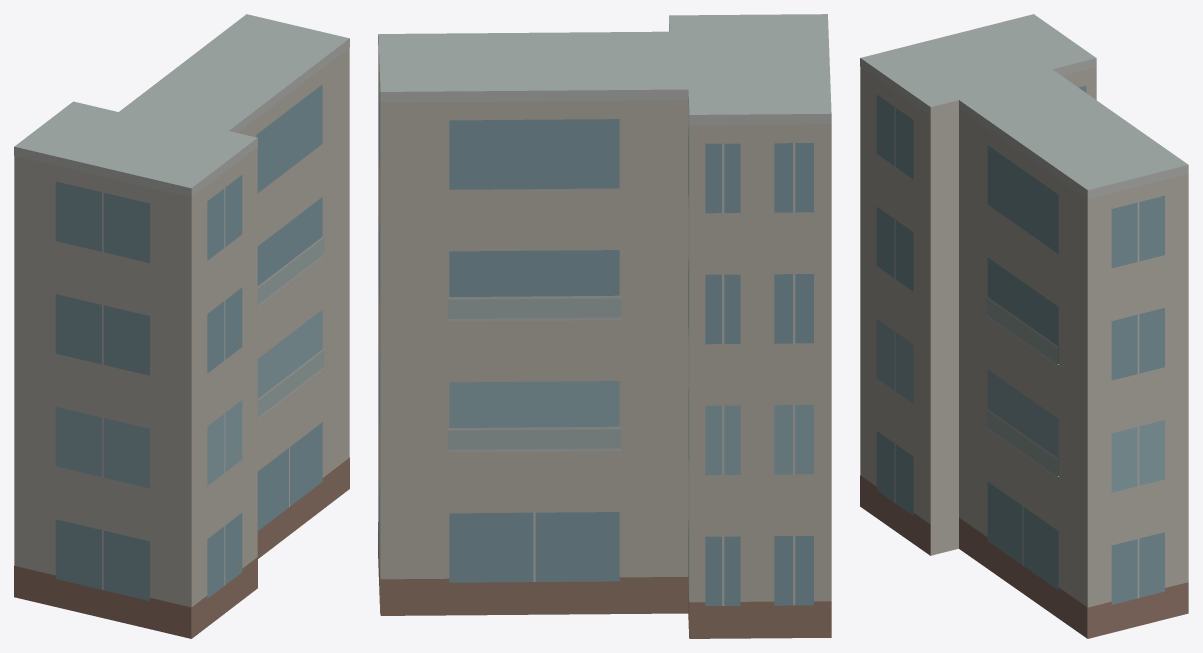
Rendered from survey-upis-32756873.glb.
The picture shows the model from 3 angles, left to right: view 1: azimuth 30°, elevation 25°; view 2: azimuth 150°, elevation 25°; view 3: azimuth 270°, elevation 25°; orthographic projection. The views are drawn at different scales.
Parts seen in each view (by area): view 1: survey-upis-32756873.tmp; view 2: survey-upis-32756873.tmp; view 3: survey-upis-32756873.tmp.
Part boxes in pixels (left/top/right/bottom): survey-upis-32756873.tmp: left=14, top=14, right=349, bottom=638; survey-upis-32756873.tmp: left=378, top=14, right=831, bottom=638; survey-upis-32756873.tmp: left=860, top=14, right=1188, bottom=638.
Bounding box in the file's own units: 10.29 × 12.2 × 8.1.
